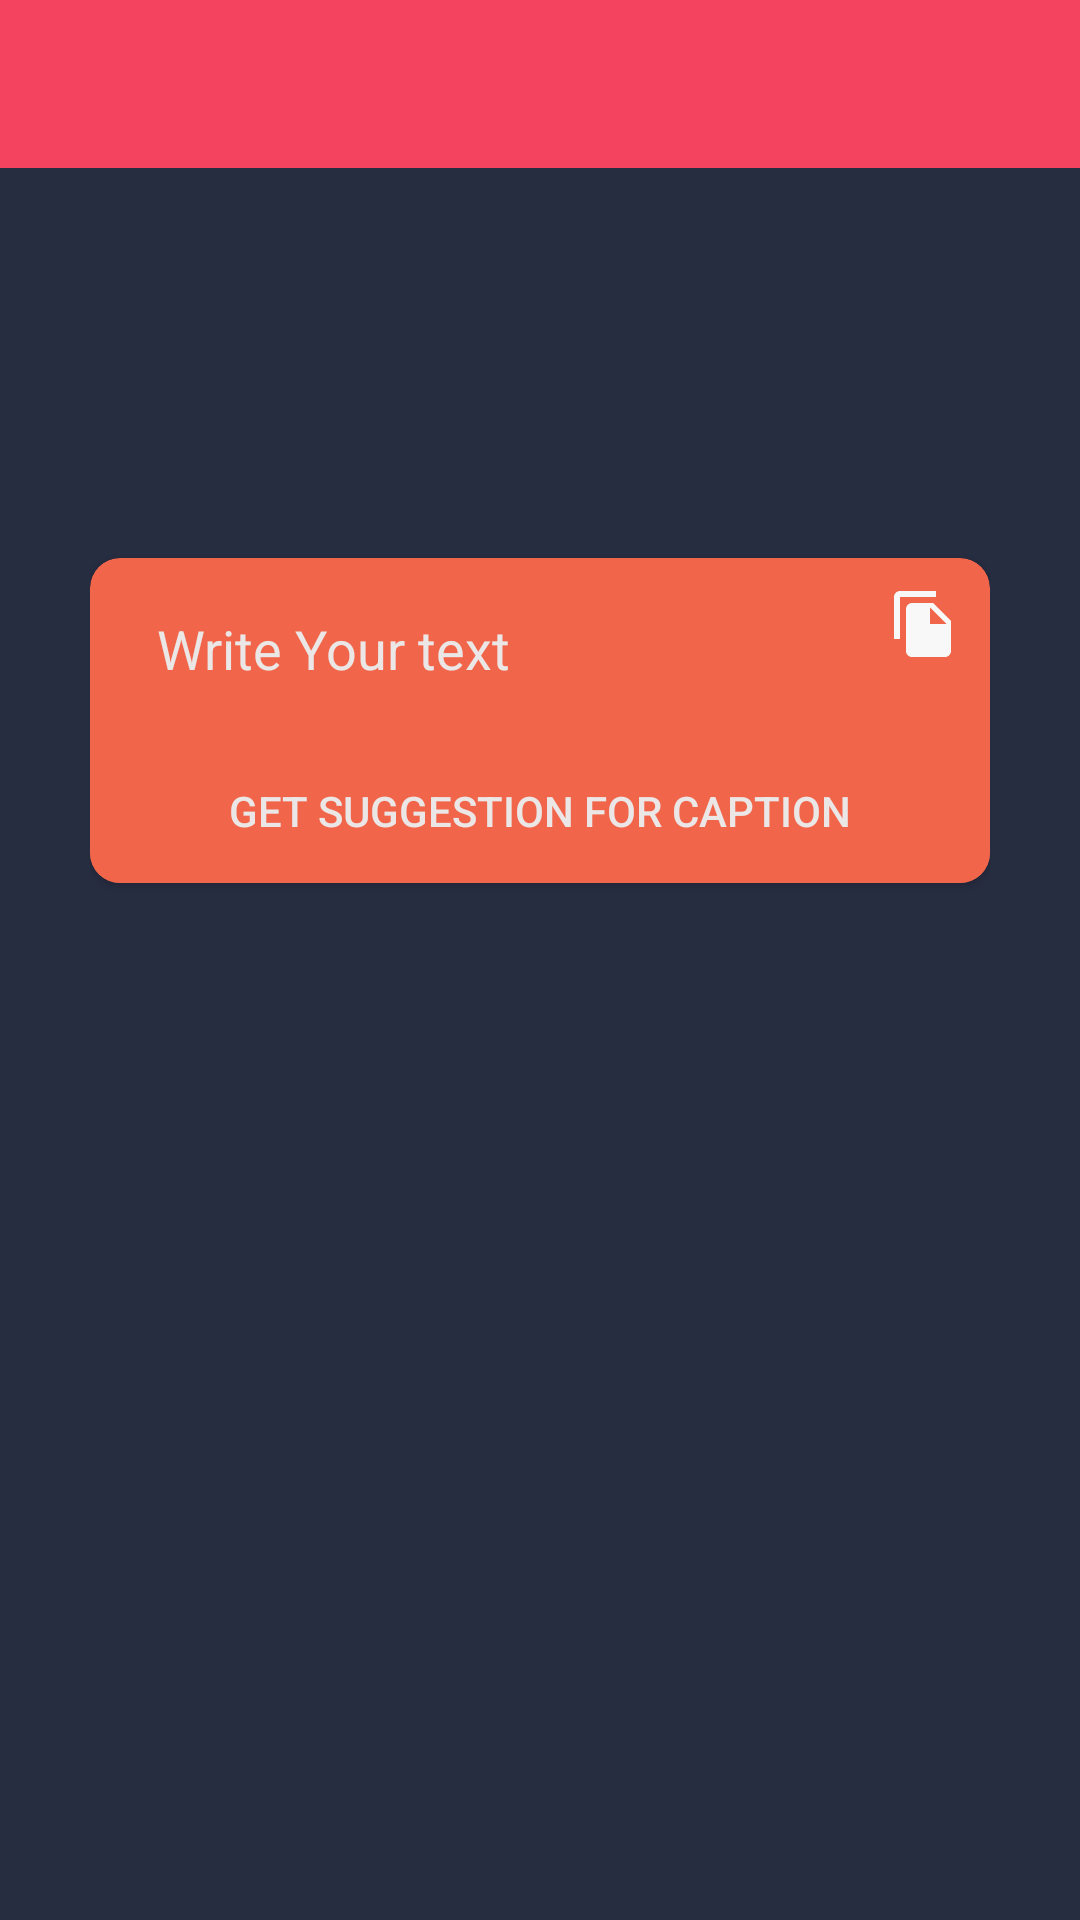

Icons on this 1080x1920 Android screen, each with the point to tap as (x=x, y=y):
file: (x=922, y=624)
